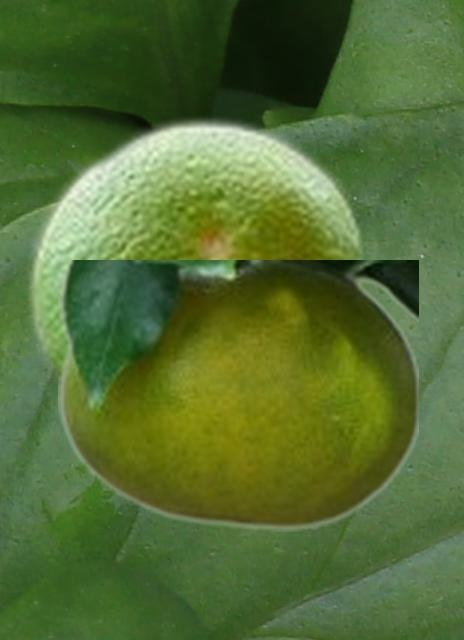dalandan: (58, 260, 417, 530), (23, 112, 373, 388)
